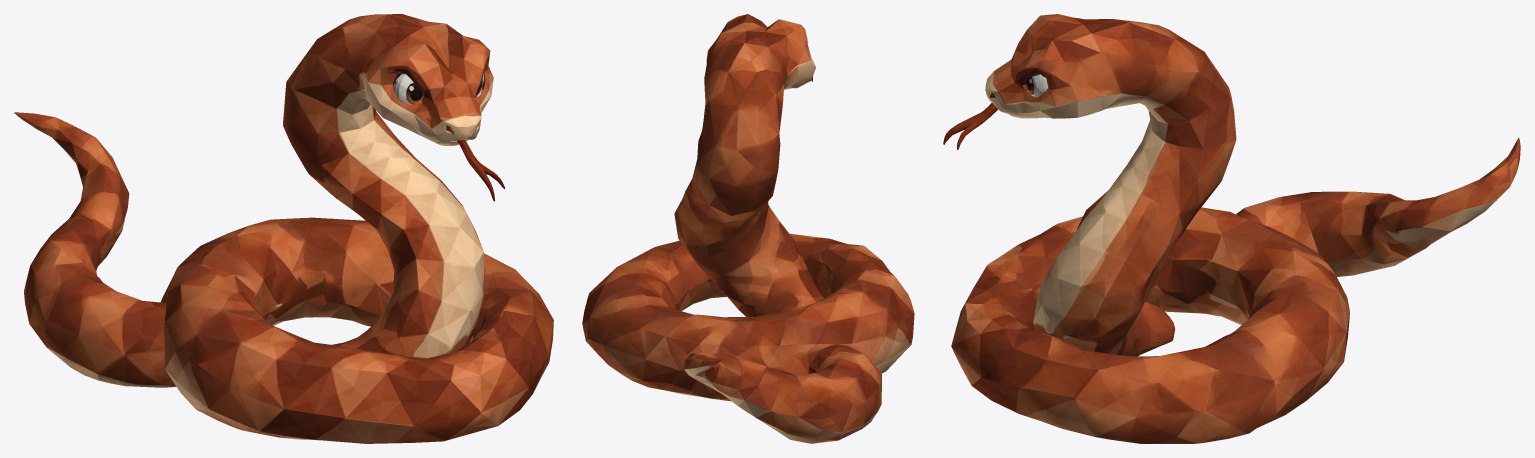
The model's file is fiery-serpent.glb.
3 renders of one model, left to right at view 1: azimuth 30°, elevation 25°; view 2: azimuth 150°, elevation 25°; view 3: azimuth 270°, elevation 25°, orthographic. The views are drawn at different scales.
Size of the model in its own units: 1.5 by 1.27 by 1.9.
Materials: 1 (1 with a texture image).
